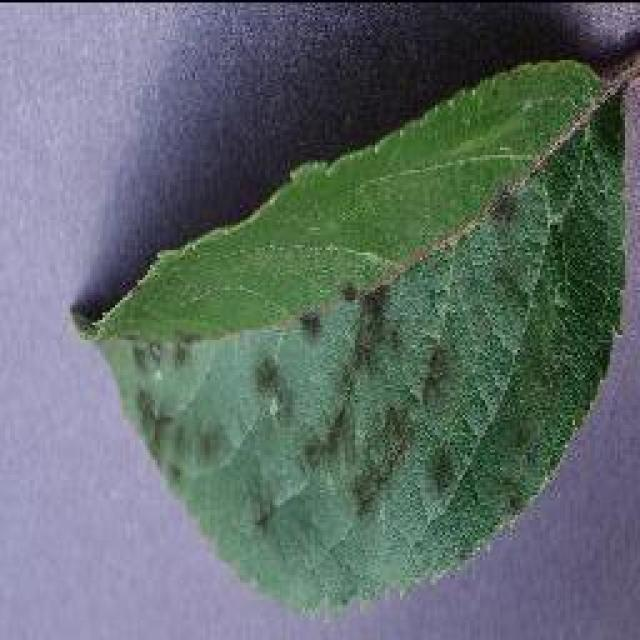apple scab disease: (70, 48, 635, 618)
